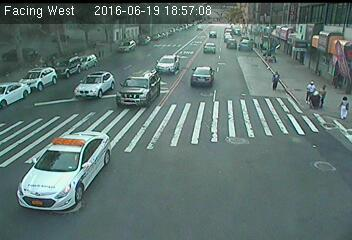neg: (118, 98, 140, 127), (230, 169, 251, 197), (129, 36, 148, 61), (58, 49, 77, 73), (178, 116, 196, 140), (73, 135, 90, 158), (211, 54, 227, 74), (181, 161, 196, 181), (300, 159, 315, 179), (231, 117, 245, 137), (94, 173, 108, 191), (310, 91, 322, 108)
pos: (331, 92, 351, 118), (267, 66, 284, 90), (302, 78, 318, 99), (318, 84, 333, 104)
